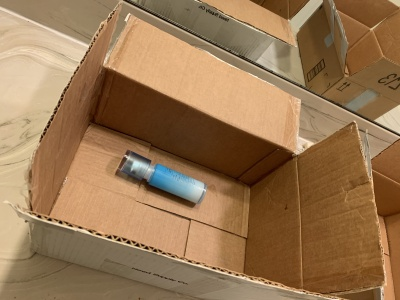innerbox: (86, 82, 300, 261)
outerbox: (19, 5, 385, 300)
product: (120, 150, 207, 202)
